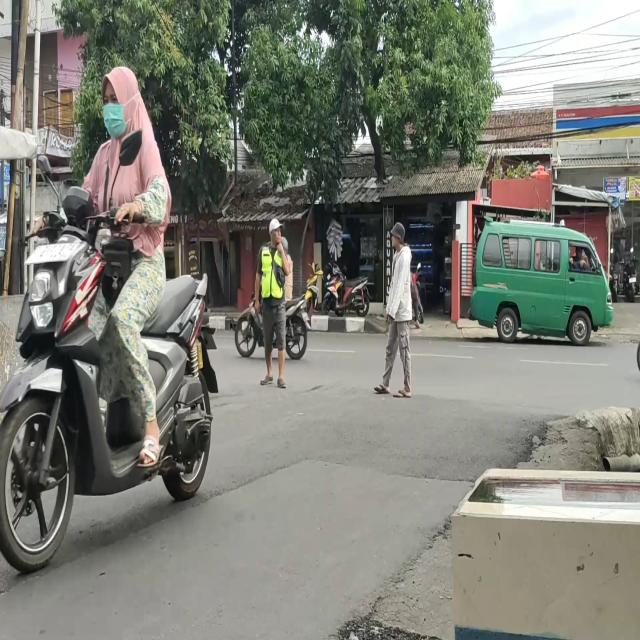no-helmet: (98, 69, 141, 134)
